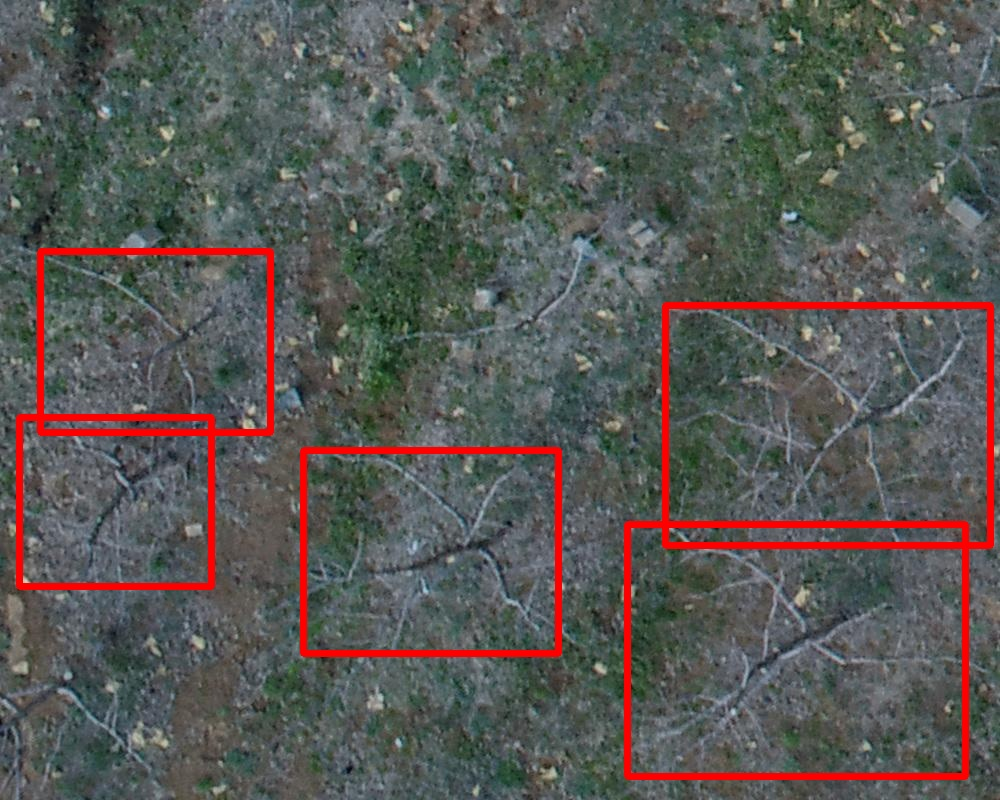apple: (627, 524, 965, 776), (665, 305, 990, 545), (303, 450, 558, 653), (40, 251, 270, 432), (19, 417, 211, 586)
